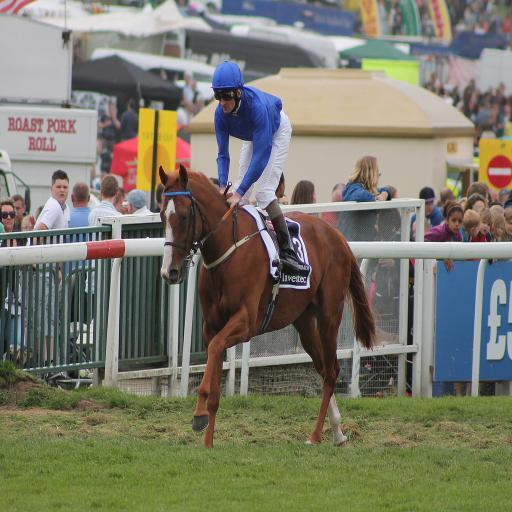horse: (158, 166, 382, 445)
